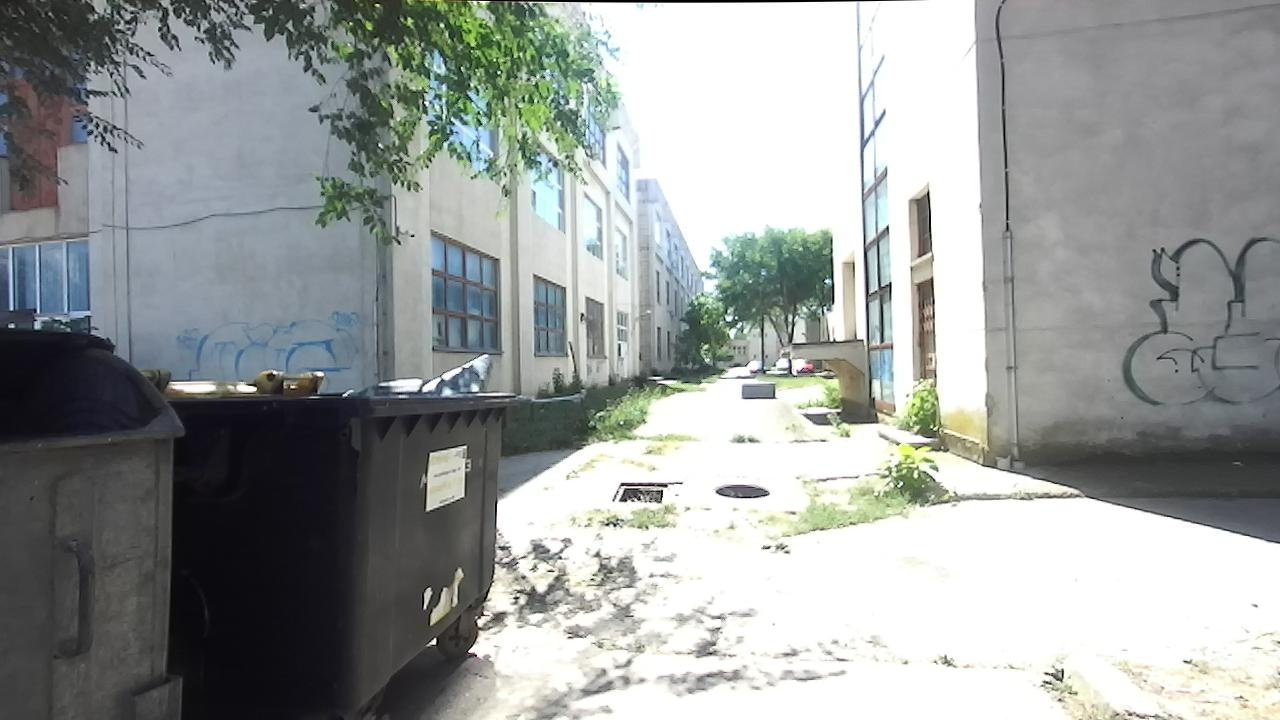drain: (605, 479, 666, 509), (708, 476, 771, 505)
